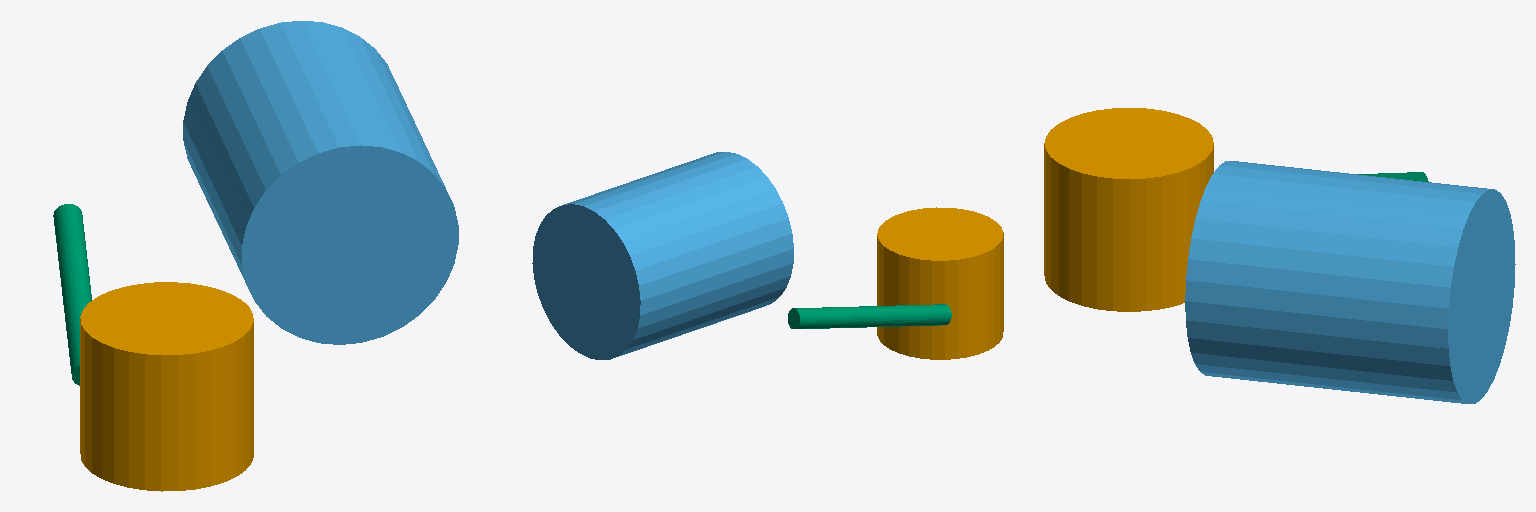
The robot description file, URDF, robot "pepe":
<?xml version="1.0"?><robot name="pepe">
	<link name="0">
		<visual>
			<geometry>
				<cylinder length="0.40957766611268387" radius="0.23697413966747025"/>
			</geometry>
		</visual>
		<collision>
			<geometry>
				<cylinder length="0.40957766611268387" radius="0.23697413966747025"/>
			</geometry>
		</collision>
		<inertial>
			<mass value="0.0722583516252155"/>
			<inertia ixx="0.03" iyy="0.03" izz="0.03" ixy="0" ixz="0" iyx="0"/>
		</inertial>
	</link>
	<link name="11">
		<visual>
			<geometry>
				<cylinder length="0.7735255400103306" radius="0.30325842713396767"/>
			</geometry>
		</visual>
		<collision>
			<geometry>
				<cylinder length="0.7735255400103306" radius="0.30325842713396767"/>
			</geometry>
		</collision>
		<inertial>
			<mass value="0.2234859815640737"/>
			<inertia ixx="0.03" iyy="0.03" izz="0.03" ixy="0" ixz="0" iyx="0"/>
		</inertial>
	</link>
	<link name="22">
		<visual>
			<geometry>
				<cylinder length="0.7057423242847278" radius="0.039728272268475556"/>
			</geometry>
		</visual>
		<collision>
			<geometry>
				<cylinder length="0.7057423242847278" radius="0.039728272268475556"/>
			</geometry>
		</collision>
		<inertial>
			<mass value="0.0034994145500997506"/>
			<inertia ixx="0.03" iyy="0.03" izz="0.03" ixy="0" ixz="0" iyx="0"/>
		</inertial>
	</link>
	<joint name="11_to_0" type="revolute">
		<parent link="0"/>
		<child link="11"/>
		<axis xyz="0 1 0"/>
		<limit effort="150" lower="-10" upper="10" velocity="1"/>
		<origin rpy="1.8439421889662326 1.6834437860697424 3.0981087783490406" xyz="0.8417054568616072 0.6184794874468321 0.1680188358427427"/>
	</joint>
	<joint name="22_to_0" type="revolute">
		<parent link="0"/>
		<child link="22"/>
		<axis xyz="1 0 0"/>
		<limit effort="150" lower="-10" upper="10" velocity="1"/>
		<origin rpy="13.342413649894832 5.041910160978481 3.4579877721032886" xyz="0.011334035313054436 0.5105836282856033 0.06660456630520772"/>
	</joint>
</robot>

--- Facts derived from the render (not from the file) ---
Views: 3 orthographic renders of the robot side by side, from view 1: azimuth 30°, elevation 25°; view 2: azimuth 150°, elevation 25°; view 3: azimuth 270°, elevation 25°.
Robot: pepe — 3 links, 2 joints (2 revolute); root link 0; default pose: all joints at 0.
Visible links, largest first — view 1: 11, 0, 22; view 2: 11, 0, 22; view 3: 11, 0.
Link boxes in pixels (<box>): 11: <box>183,21,458,344</box>; 0: <box>80,282,253,491</box>; 22: <box>53,204,91,385</box>; 11: <box>532,152,793,359</box>; 0: <box>877,207,1003,359</box>; 22: <box>788,304,951,328</box>; 11: <box>1185,161,1515,403</box>; 0: <box>1044,108,1213,311</box>.
Bounding box of the posed robot: 1.49 × 1.32 × 0.6865 m (x, y, z).
Geometry: primitives only (box / cylinder / sphere), no mesh files.
